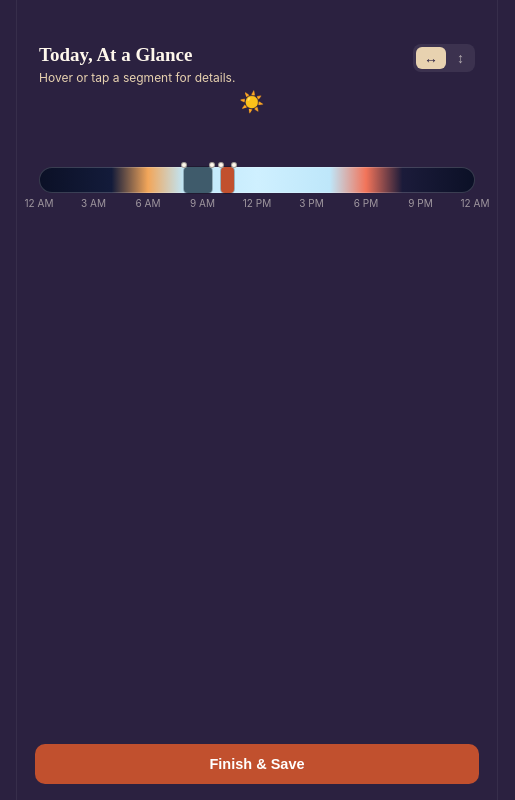
Scenario: ChronoBarScreen › opens a segment's popup on hover and closes it on mouse-leave
Step 1. Hover over the 1st element with class "chronoSegment" → (198, 180), box x1=184 y1=167 x2=212 y2=193
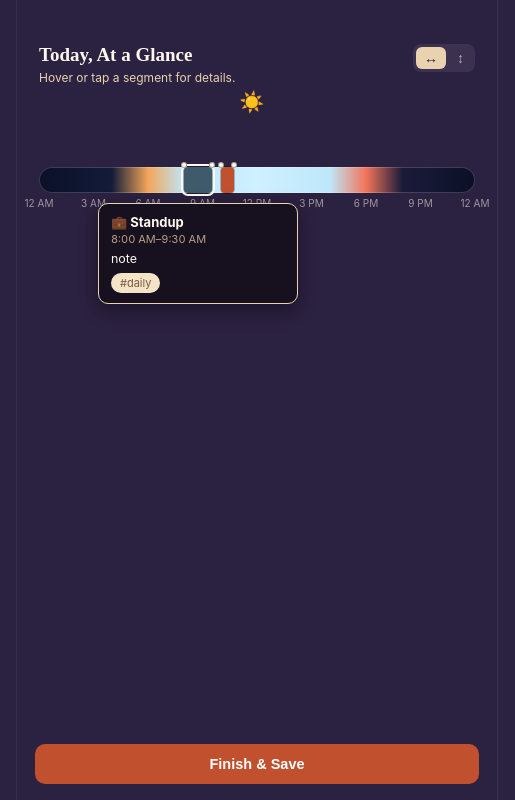
Expected: the text "💼 Standup" is shown, x1=111 y1=214 x2=184 y2=230
Expected: the text "#daily" is shown, x1=111 y1=273 x2=160 y2=293
Step 2. Move the pointer off the 1st element with class "chronoSegment", box x1=184 y1=167 x2=212 y2=193
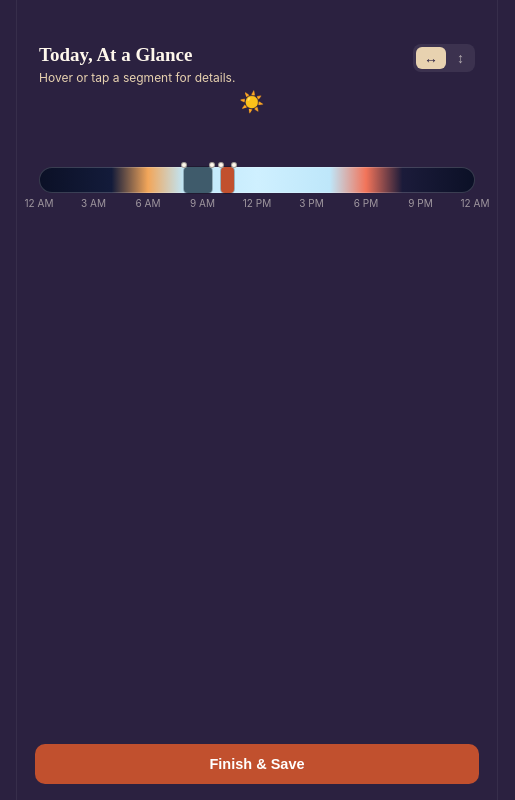
Expected: the text "Standup" is gone
